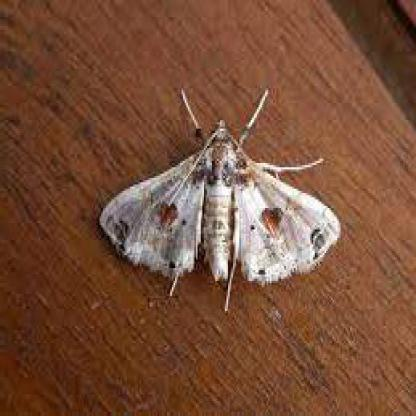leucinodes: (100, 119, 341, 283)
